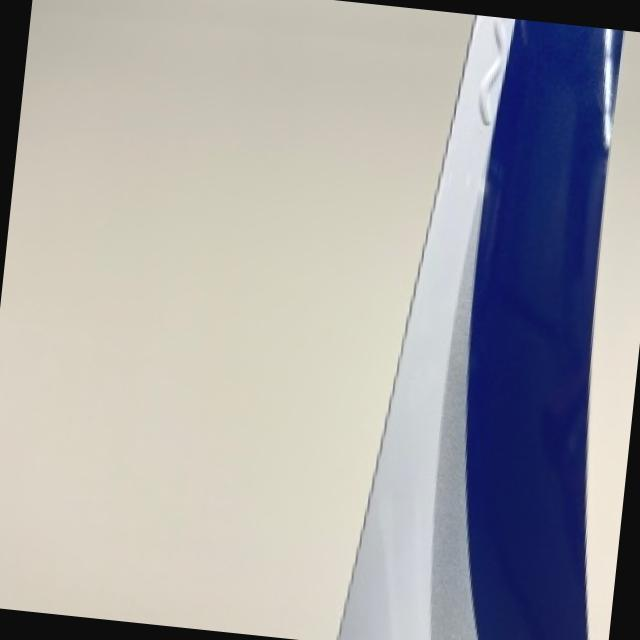healthy: (336, 14, 621, 640)
